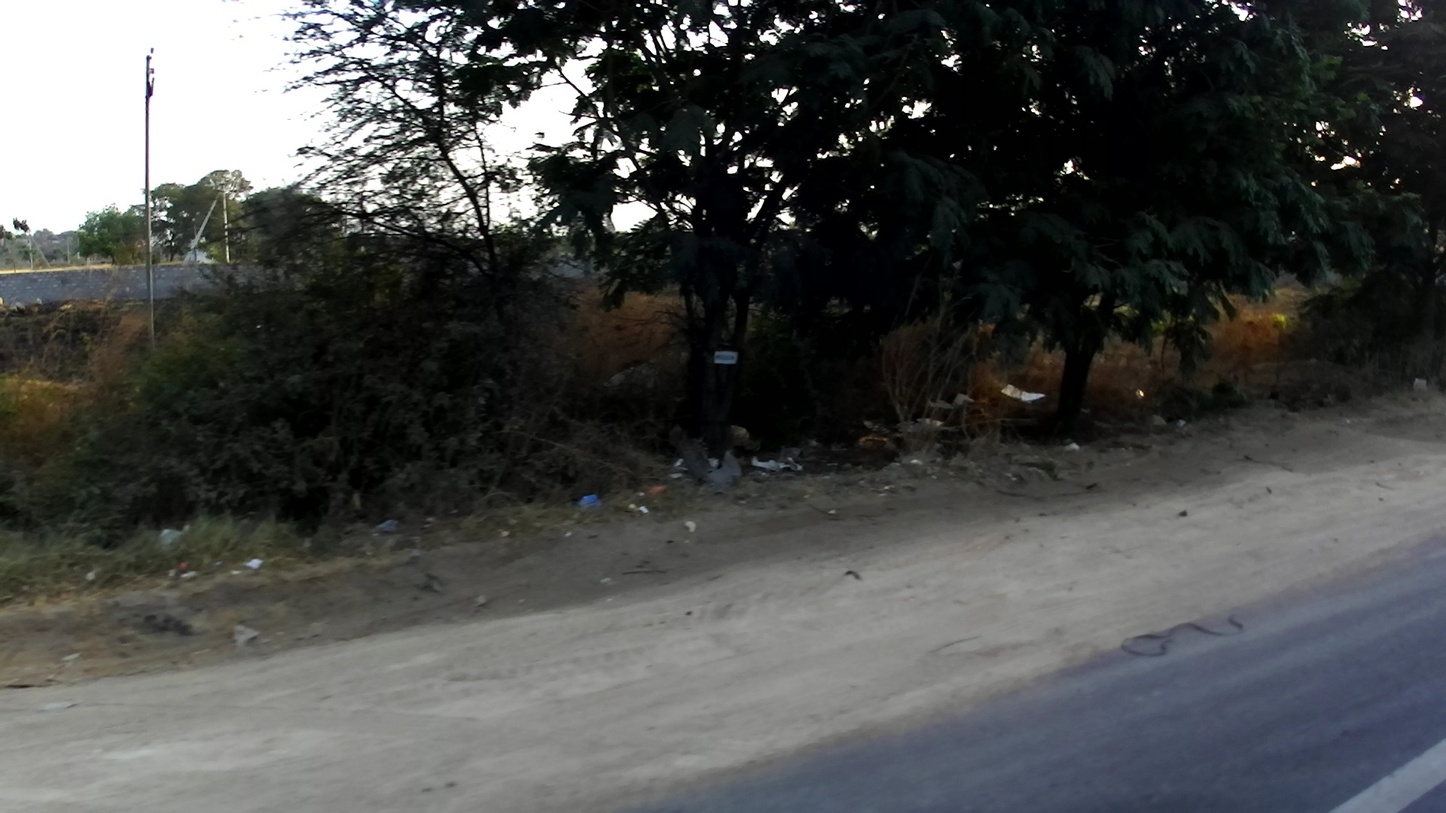animal: (1118, 607, 1252, 656)
